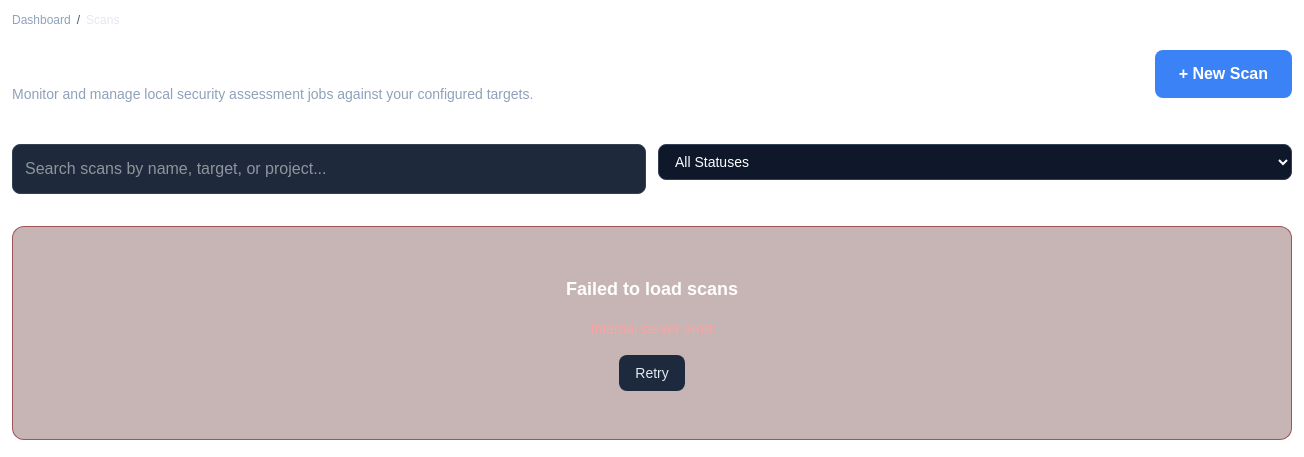
ScansPage states › recovers through the Retry action
The width and height of the screenshot is (1304, 457).
Expected: the text "Failed to load scans" is shown, [566, 279, 738, 299]
Click the button "Retry".
click(652, 373)  # box [619, 355, 685, 391]
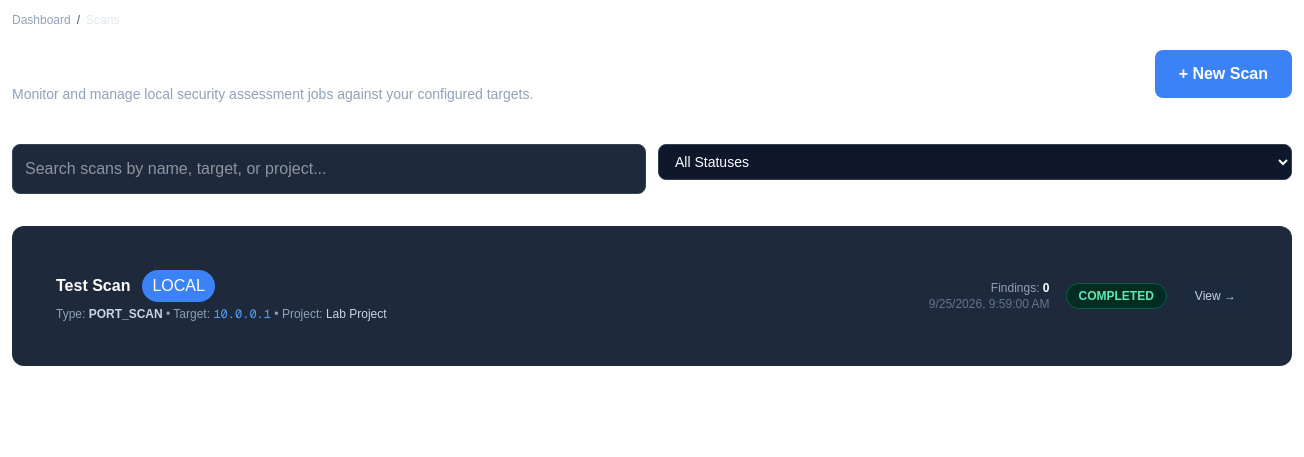
Result: the link "Test Scan" is shown at [56, 274, 130, 298]
Result: the text "Failed to load scans" is gone
